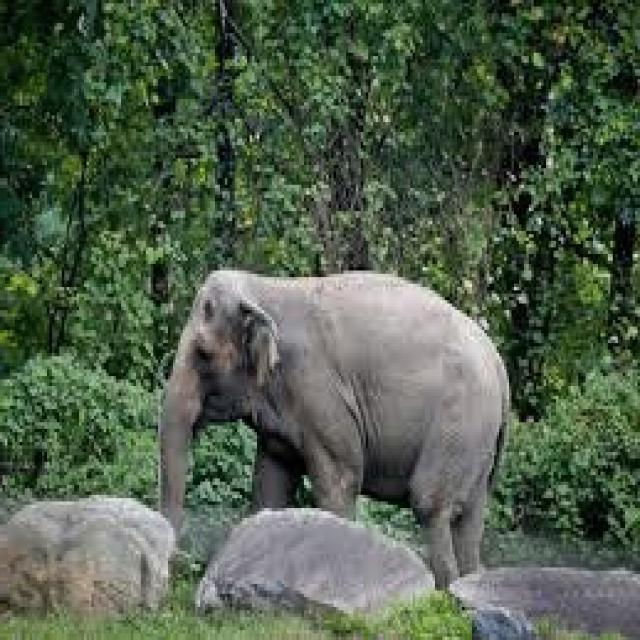elephant: (161, 271, 507, 584)
